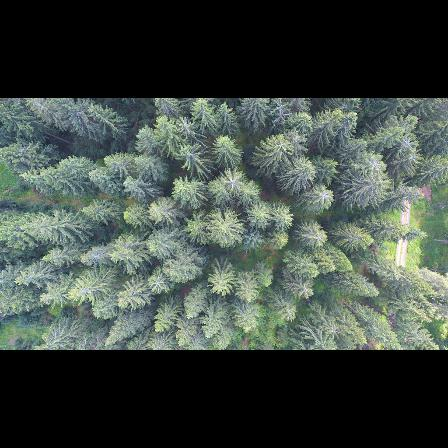Sick: (217, 172, 242, 193), (393, 132, 417, 153), (315, 184, 332, 208), (295, 280, 315, 300)
